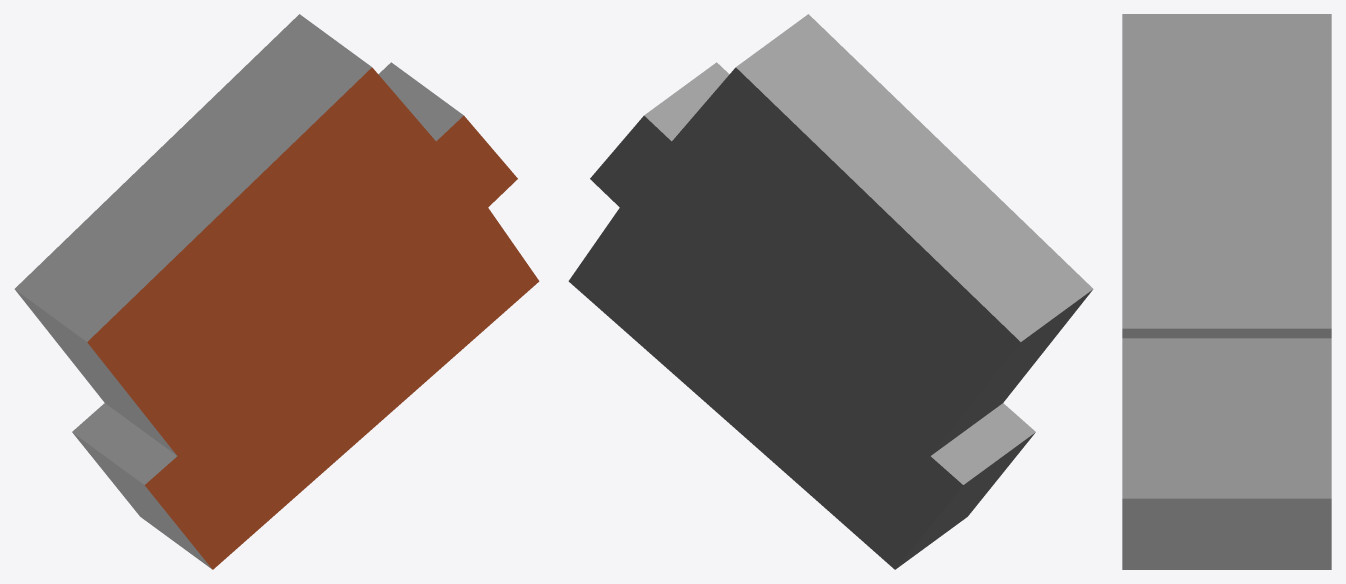
The model's file is construction_2760_assumed_A_Casa_h6m.obj.
3 renders of one model, left to right at view 1: azimuth 30°, elevation 25°; view 2: azimuth 150°, elevation 25°; view 3: azimuth 270°, elevation 25°, orthographic. The views are drawn at different scales.
Visible parts, largest first — view 1: construction_2760_assumed_A_Casa; view 2: construction_2760_assumed_A_Casa; view 3: construction_2760_assumed_A_Casa.
Boxes of the visible parts, x1=… form: construction_2760_assumed_A_Casa: x1=14, y1=14, x2=539, y2=569; construction_2760_assumed_A_Casa: x1=568, y1=14, x2=1093, y2=569; construction_2760_assumed_A_Casa: x1=1122, y1=14, x2=1331, y2=569.
Bounding box in the file's own units: 21.56 × 21.12 × 6.
